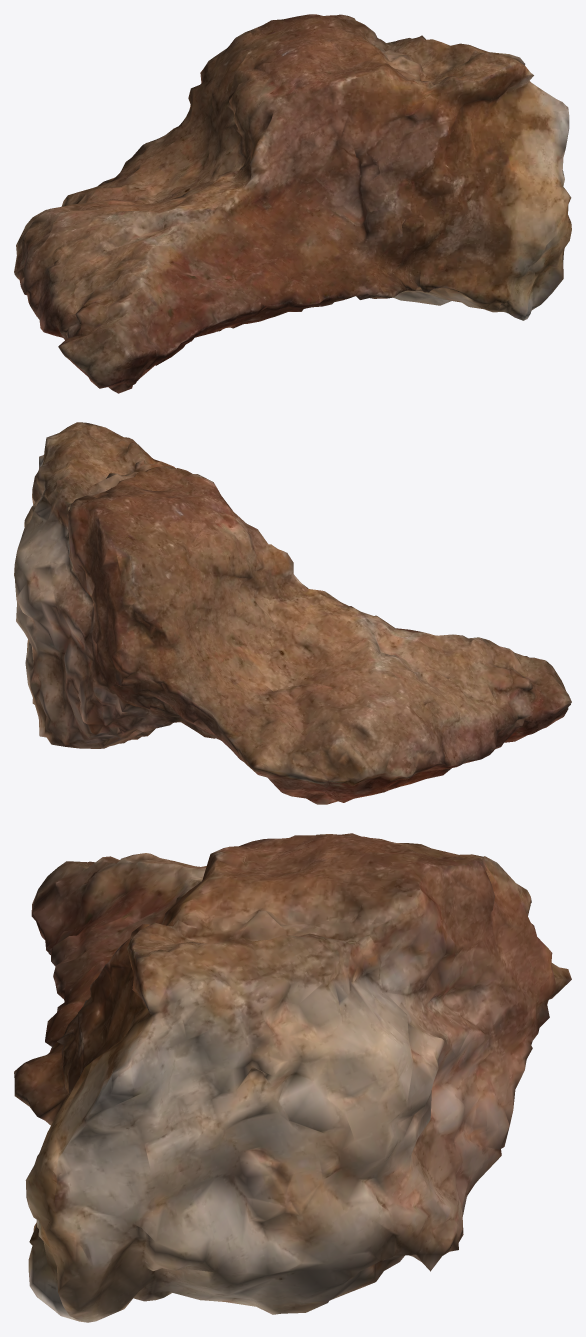
Rendered from ph-stone_01.glb.
3 renders of one model, top to bottom at view 1: azimuth 30°, elevation 25°; view 2: azimuth 150°, elevation 25°; view 3: azimuth 270°, elevation 25°, orthographic. The views are drawn at different scales.
Visible parts, largest first — view 1: stone_01; view 2: stone_01; view 3: stone_01.
Boxes of the visible parts, x1=… form: stone_01: x1=14, y1=14, x2=571, y2=393; stone_01: x1=14, y1=422, x2=571, y2=804; stone_01: x1=14, y1=833, x2=571, y2=1322.
Bounding box in the file's own units: 0.1469 × 0.0718 × 0.089.
1 material, 1 textured.
